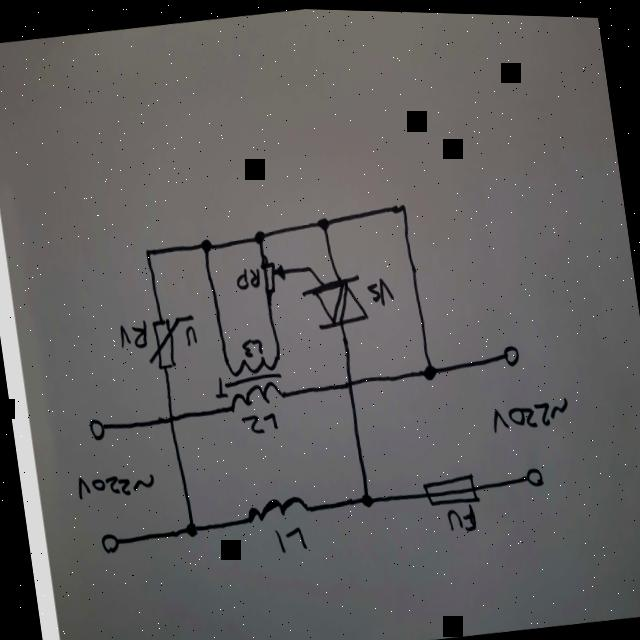crossover: (342, 371, 356, 391), (164, 408, 178, 427)
inductor: (241, 488, 312, 527)
junction: (314, 211, 334, 234), (182, 516, 202, 538), (357, 487, 376, 510), (419, 358, 438, 380), (196, 236, 215, 258), (250, 224, 268, 246), (140, 244, 154, 264), (396, 195, 410, 214)
resistor: (258, 253, 290, 307)
terminal: (86, 412, 110, 443), (99, 528, 122, 558), (520, 460, 544, 488), (498, 339, 521, 366)
text: (75, 462, 157, 505), (489, 390, 570, 433), (444, 498, 478, 532), (118, 317, 150, 351), (273, 523, 308, 554), (240, 409, 279, 436), (365, 273, 395, 307), (234, 263, 261, 291), (240, 334, 264, 358), (212, 373, 228, 399)
transformer: (220, 348, 291, 414)
